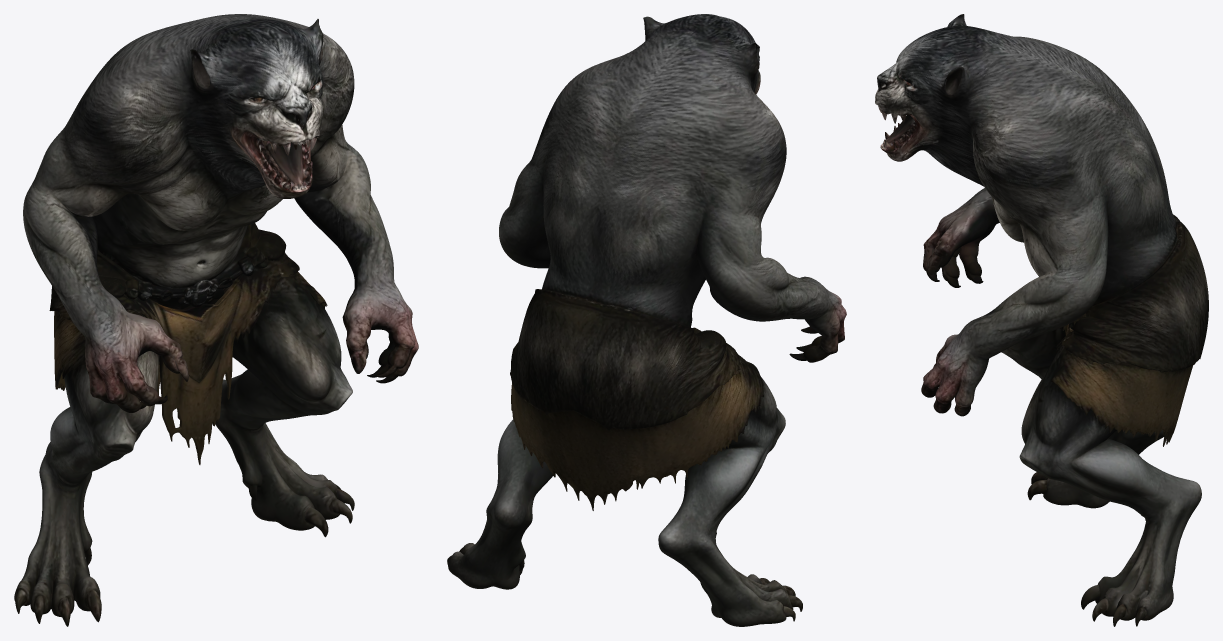
The model's file is troll.glb.
3 renders of one model, left to right at view 1: azimuth 30°, elevation 25°; view 2: azimuth 150°, elevation 25°; view 3: azimuth 270°, elevation 25°, orthographic. The views are drawn at different scales.
Visible parts, largest first — view 1: material; view 2: material; view 3: material.
Part boxes in pixels (x1,y1,x2,y2): material: (14, 14, 418, 626); material: (447, 14, 846, 626); material: (875, 14, 1208, 626).
Size of the model in its own units: 0.6231 by 0.9835 by 0.5753.
Materials: 1 (1 with a texture image).
